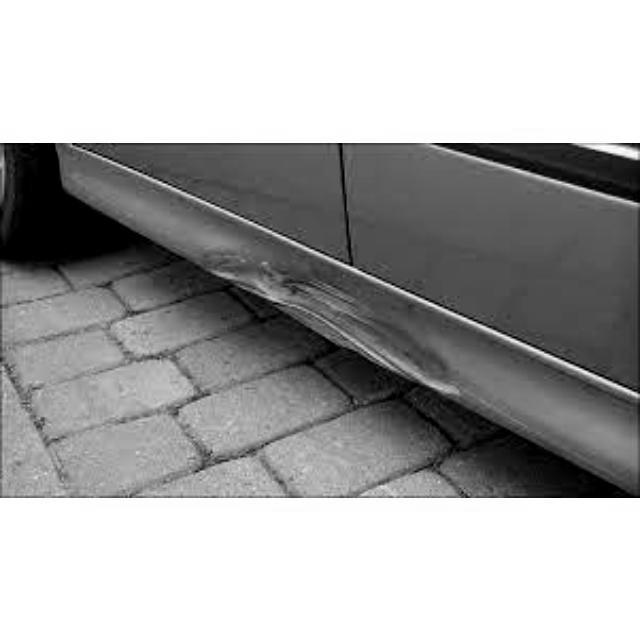Runningboard-Damage: (184, 249, 413, 372)
